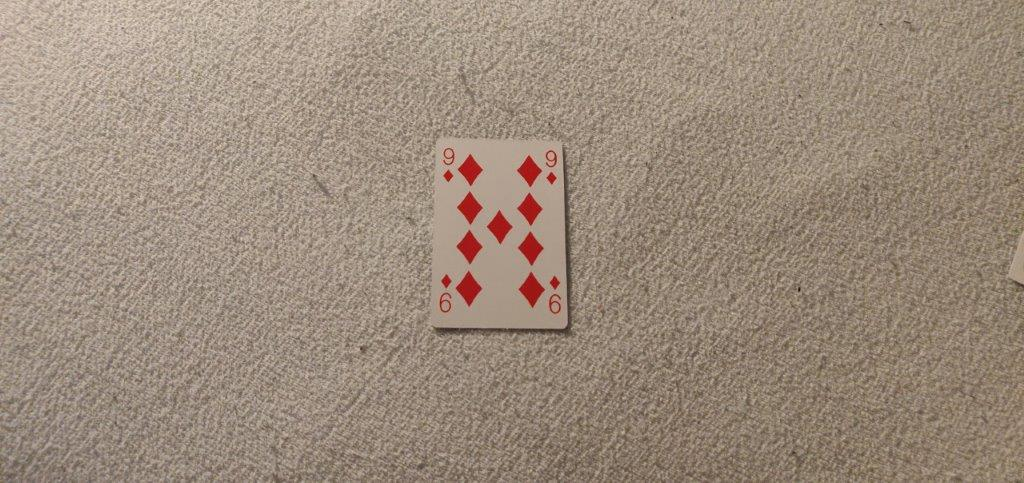9D: (541, 146, 561, 188), (441, 145, 458, 184)
